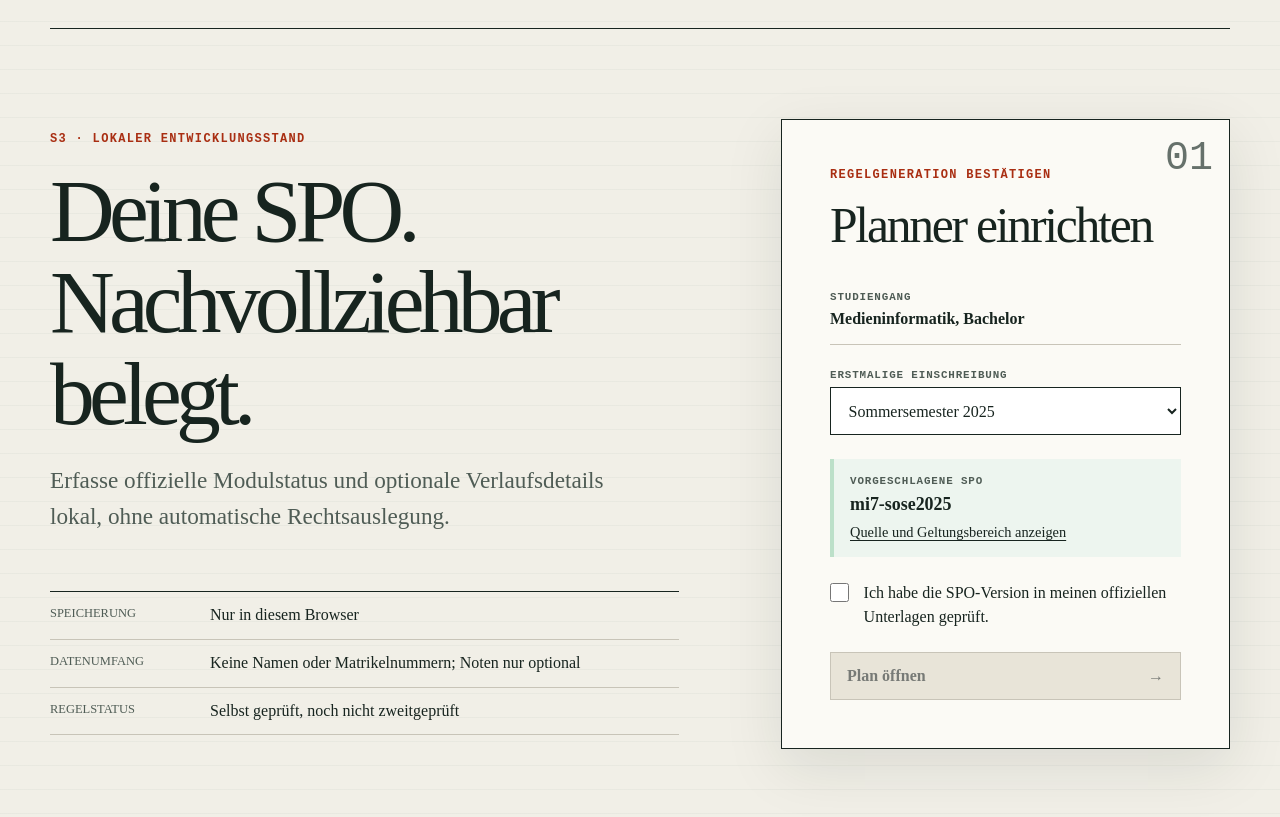
it: S1-Nutzerweg › öffnet den Planner erst nach SPO-Bestätigung und aktualisiert ECTS
Check: the button "Plan öffnen →" is disabled, box [830, 652, 1181, 700]
Click the checkbox at (840, 592), box [830, 583, 849, 602]
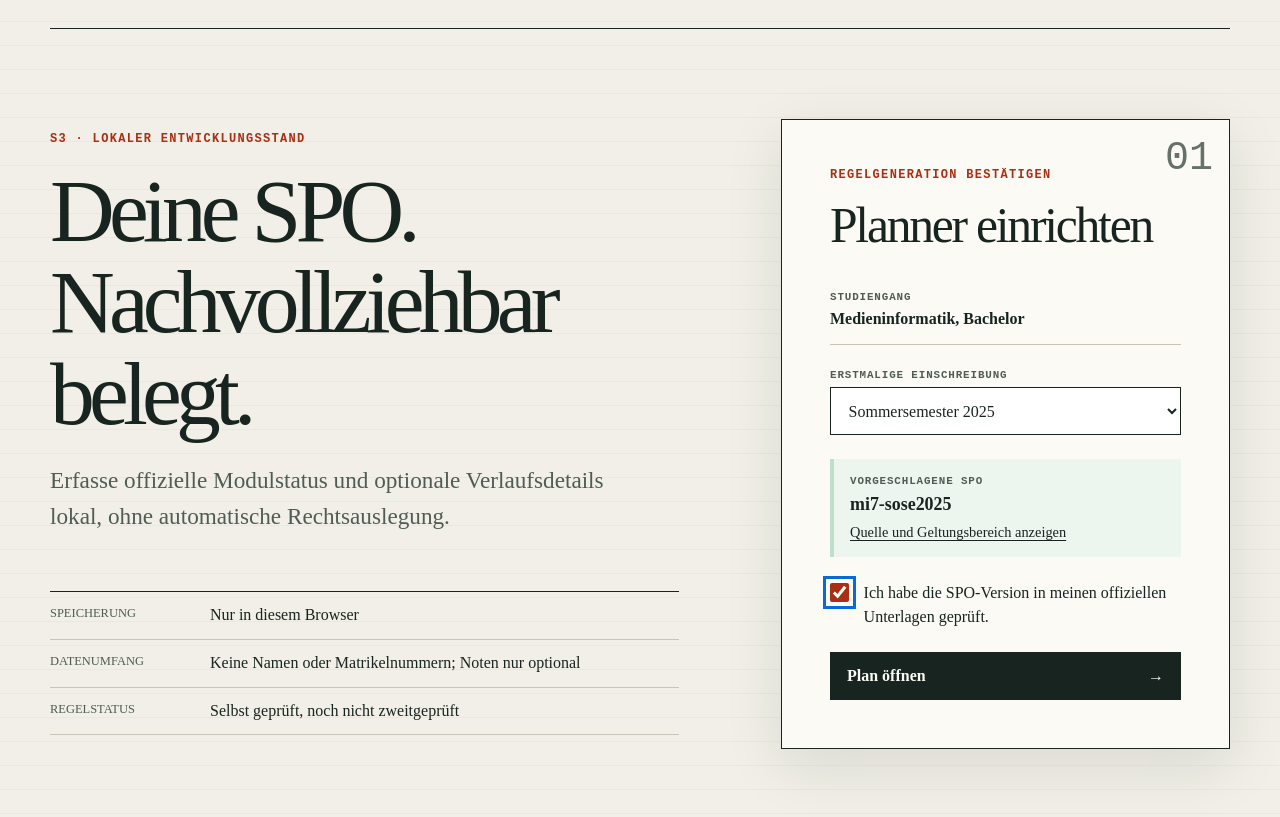
Click the button "Plan öffnen →" at (886, 675), box [830, 652, 1181, 700]
(page scrolled)
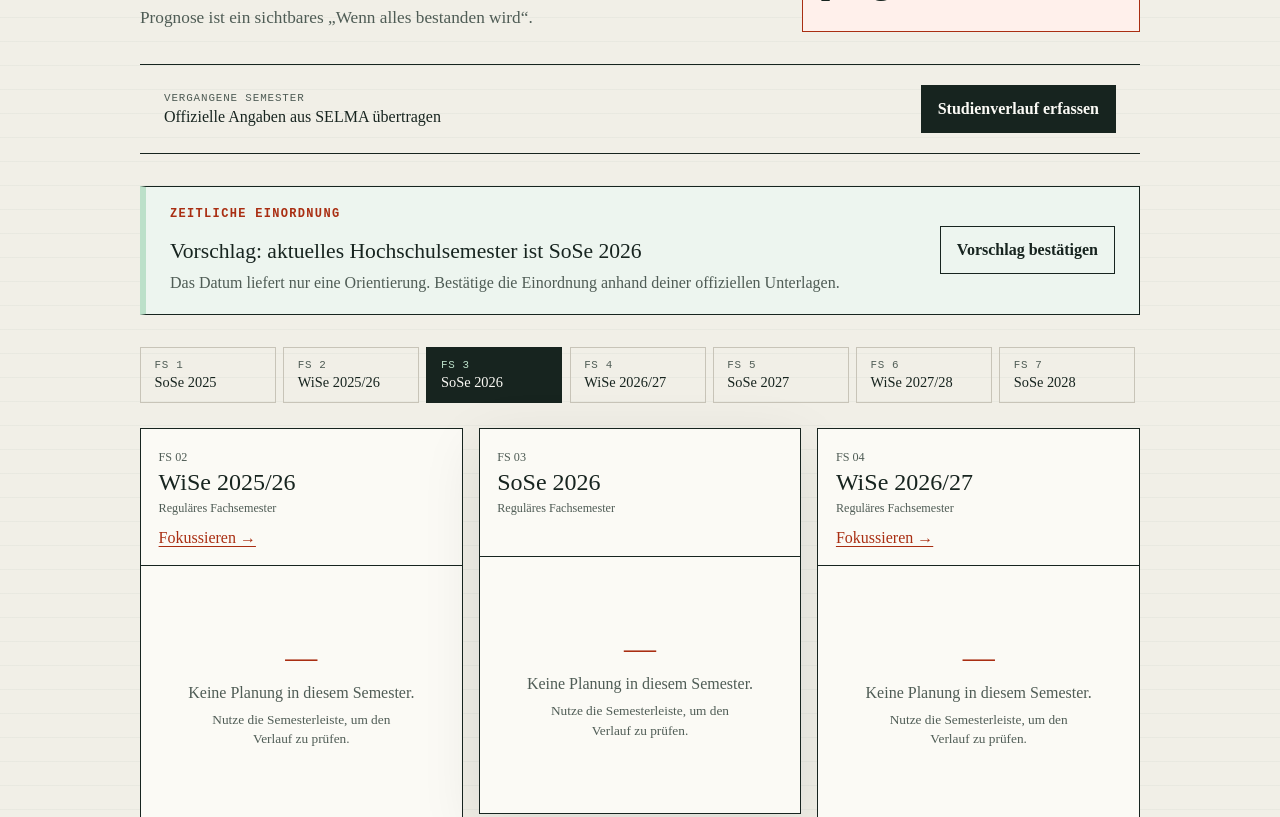
Click the button "FS 1 SoSe 2025" at (208, 375), box [140, 347, 276, 404]
(page scrolled)
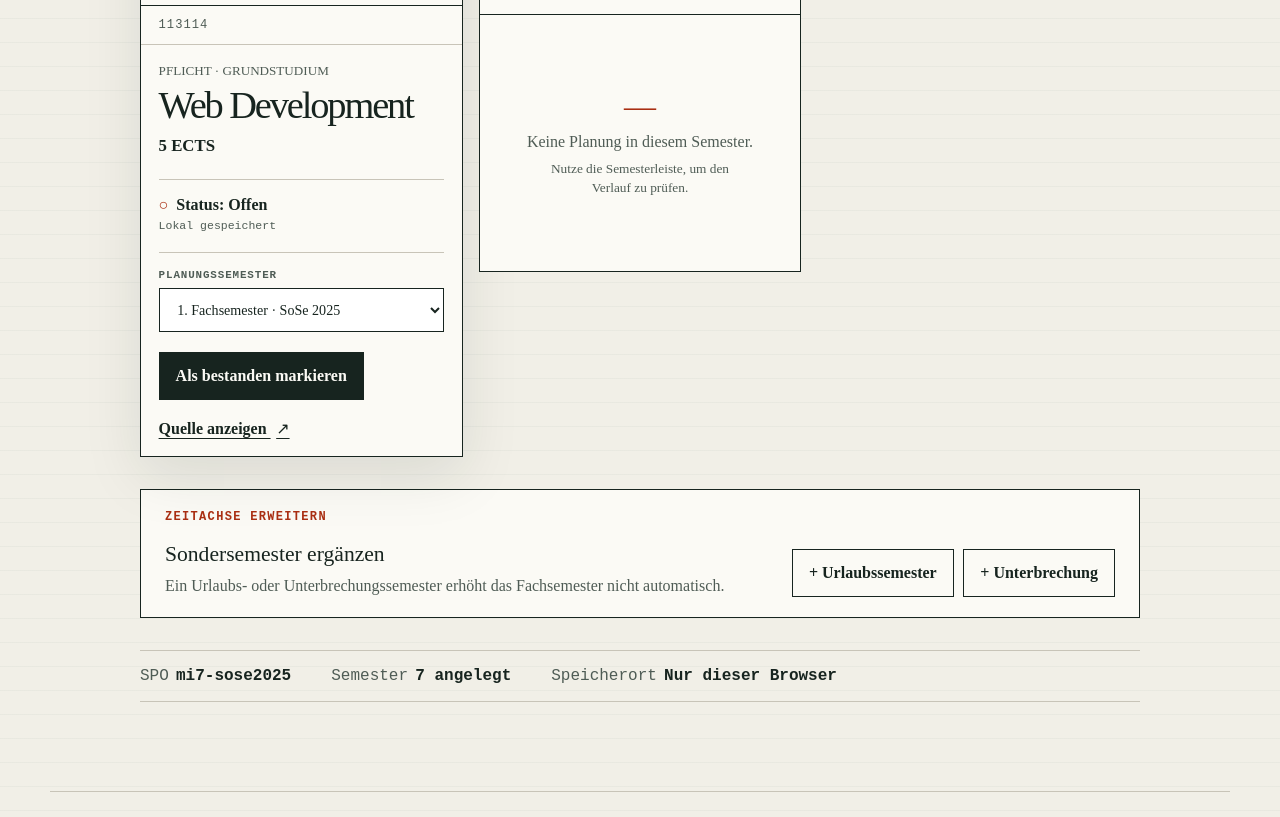
Click the button "Als bestanden markieren" at (261, 376), box [159, 352, 364, 400]
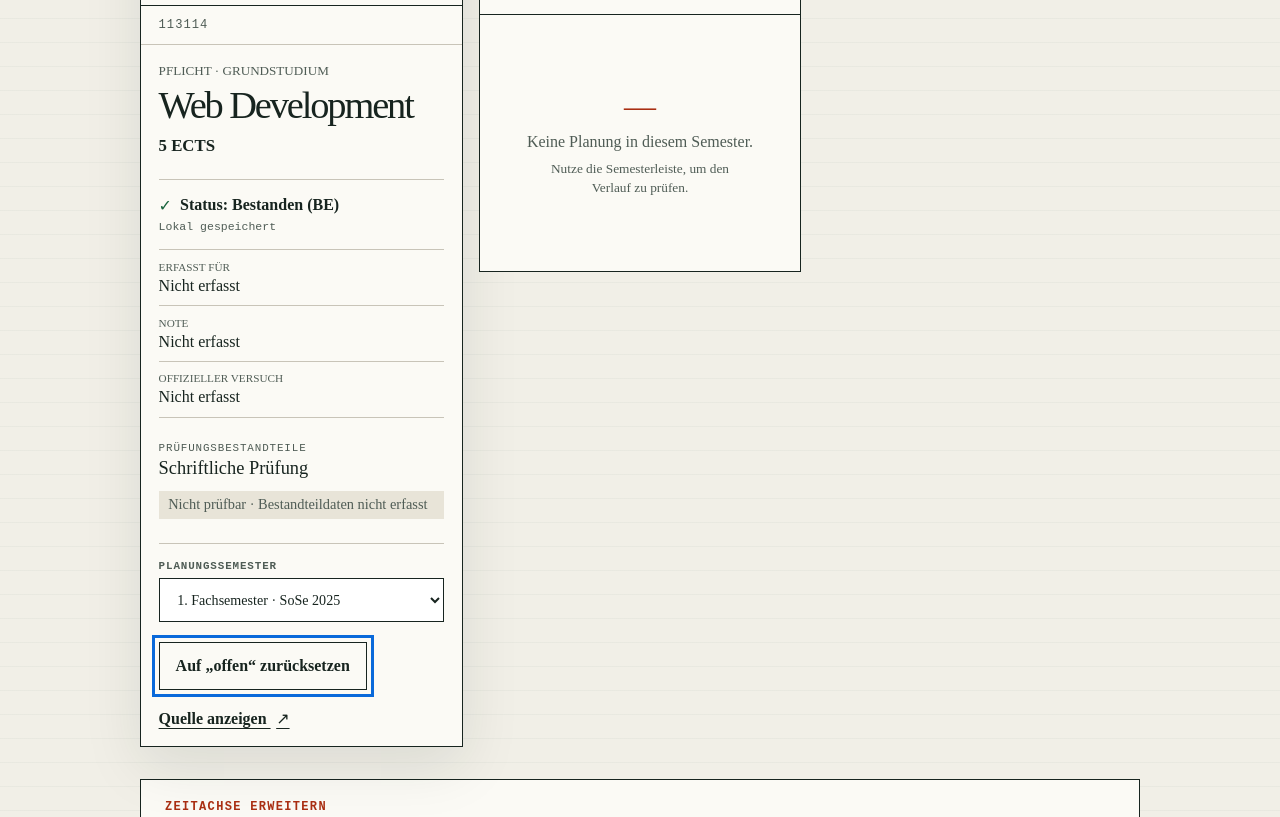
Check: the text "✓ Status: Bestanden (BE)" is shown, box [159, 196, 339, 215]
